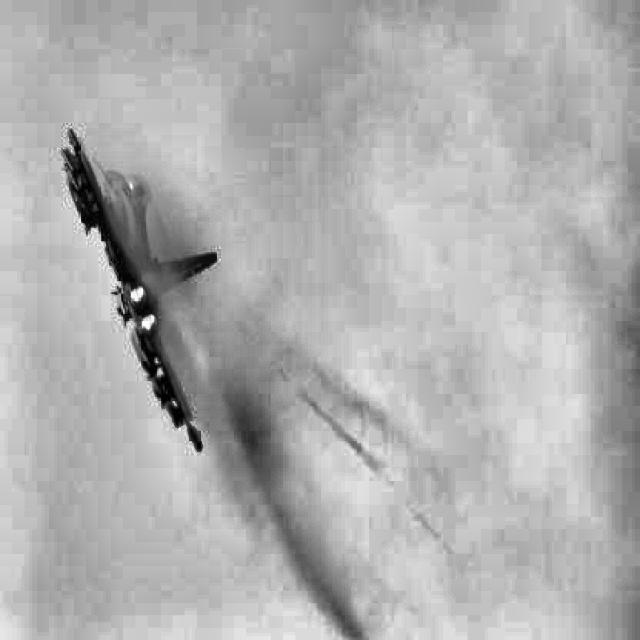EF2000: (59, 129, 218, 453)
